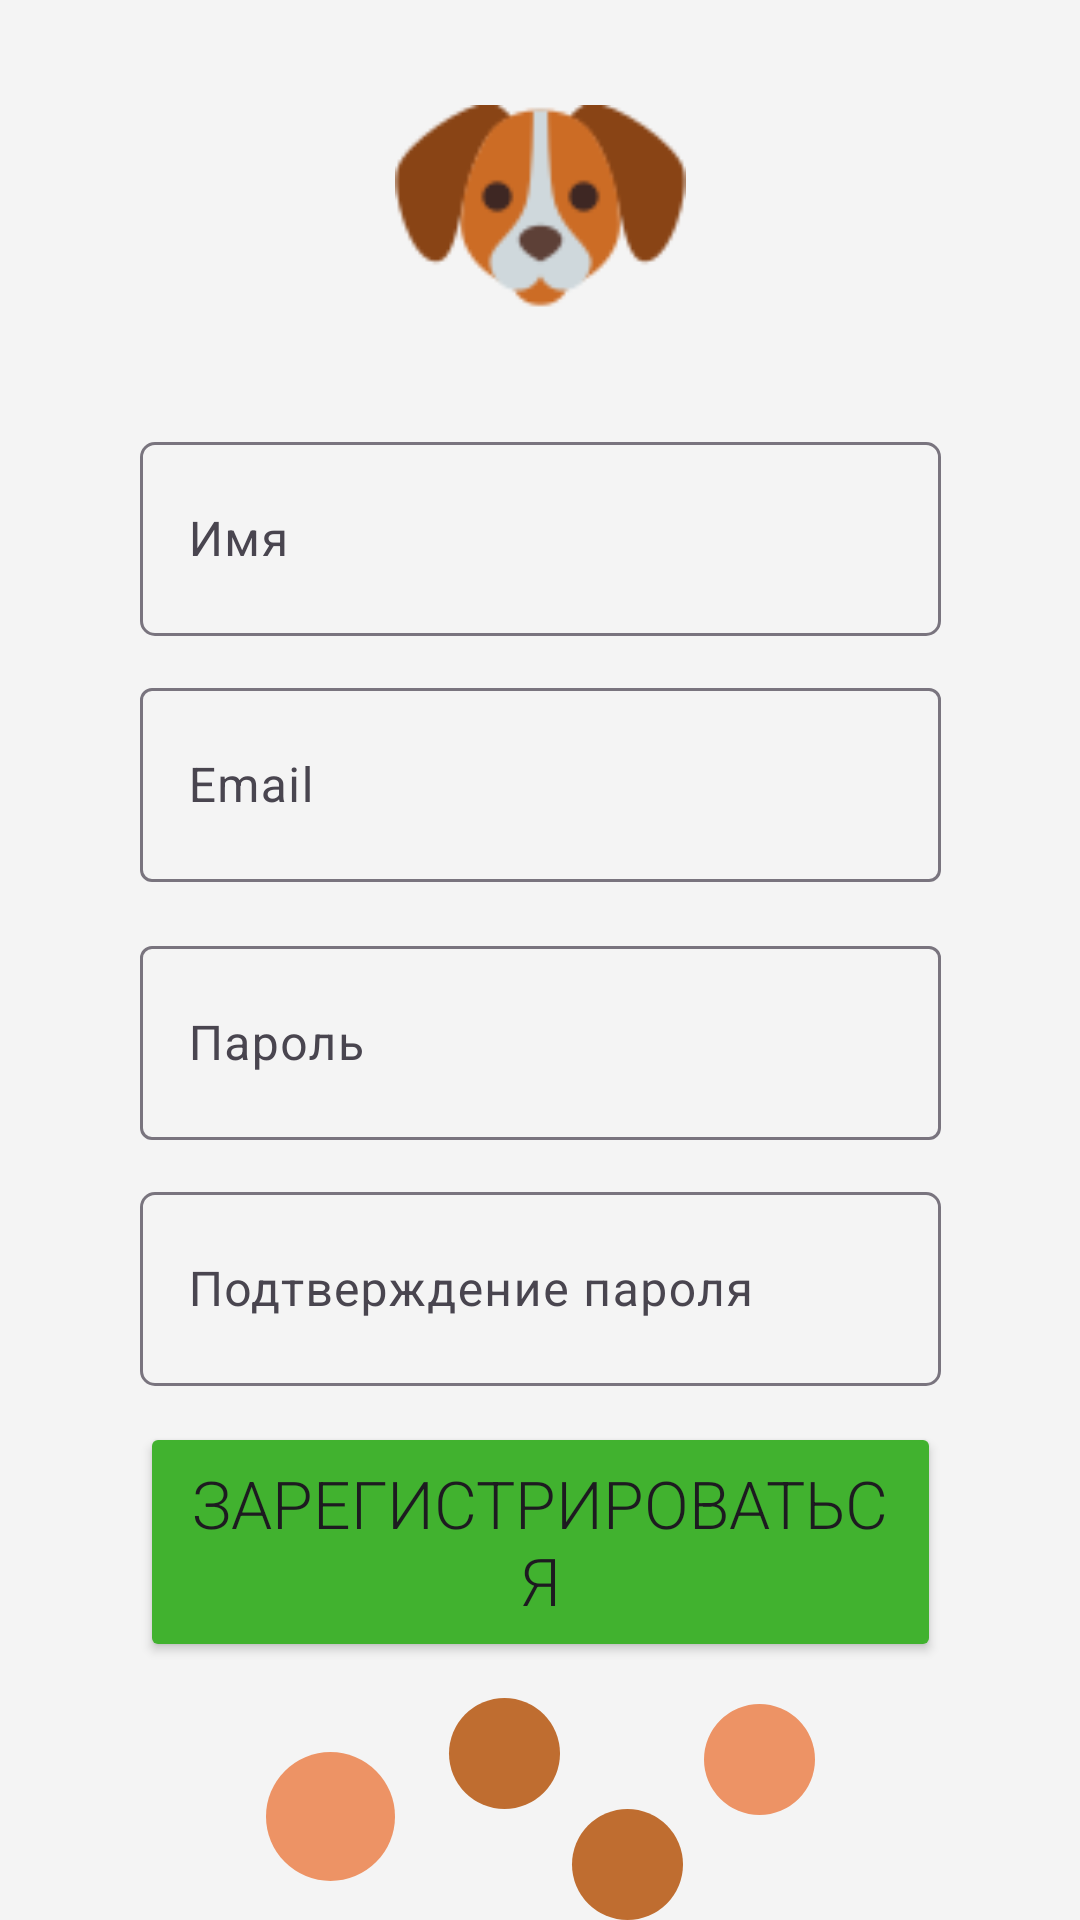

Point at icon controls on the screen. Image size 1080 × 1920, points as point (x, y).
dog: point (540, 206)
